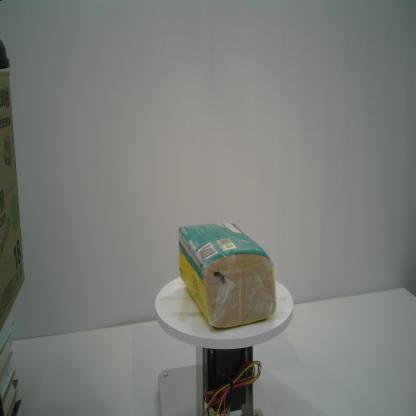Tissue: (176, 220, 278, 332)
